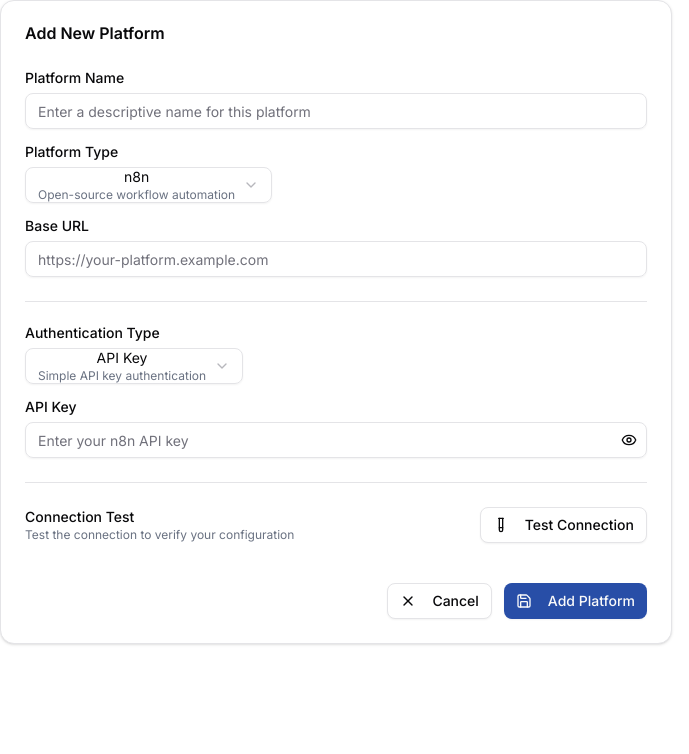
Test: PlatformForm › handles connection test failure
In the field labelled "Platform Name": [336, 111] box left=25, top=93, right=647, bottom=129, type "Test Platform"
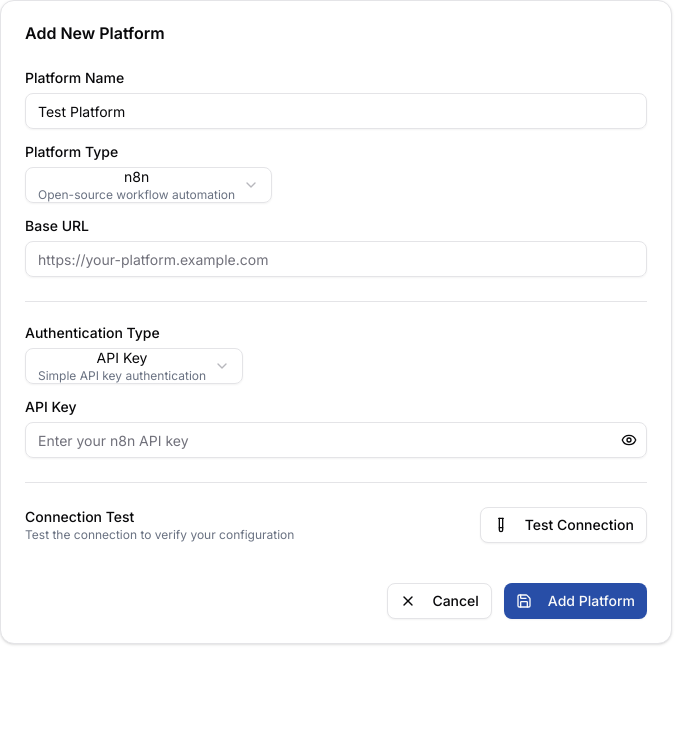
In the field labelled "Base URL": [336, 259] box left=25, top=241, right=647, bottom=277, type "https://test.example.com"
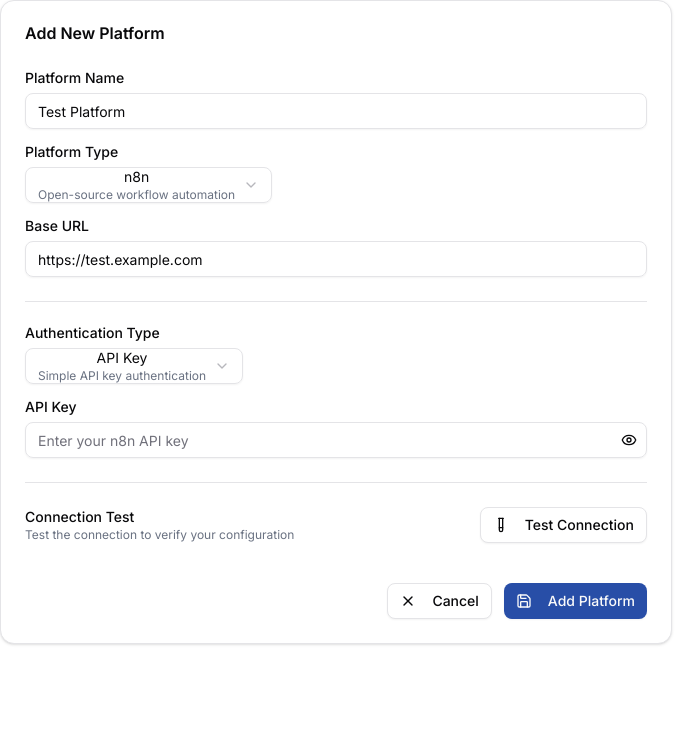
In the password field labelled "API Key": [336, 440] box left=25, top=422, right=647, bottom=458, type "invalid-key"
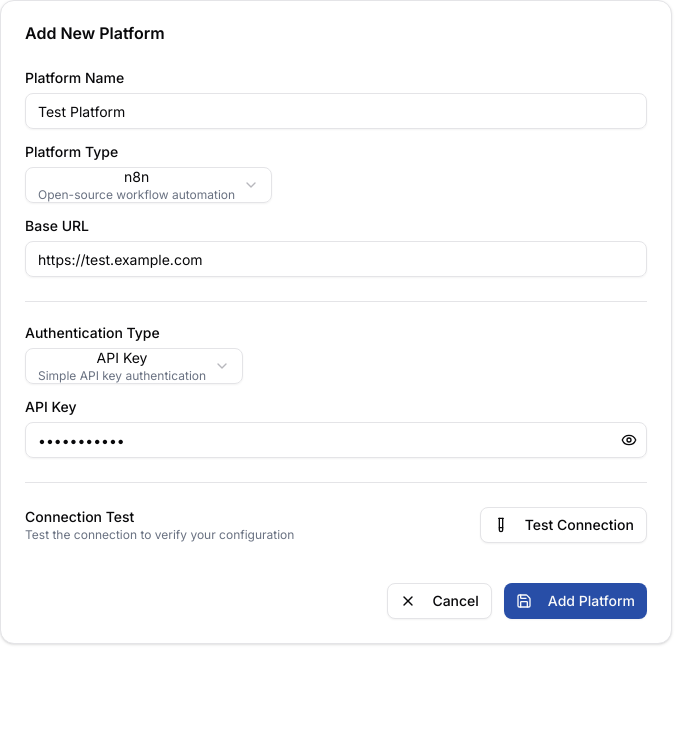
# Click test connection
Click the button "Test Connection": [563, 525] box left=480, top=507, right=647, bottom=543
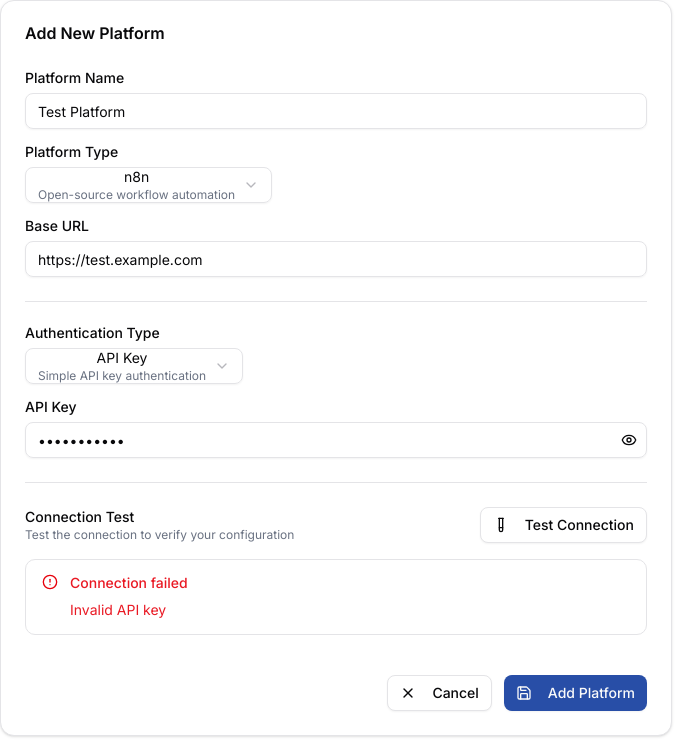
Now the text "Connection failed" is shown, box left=70, top=572, right=188, bottom=595
Now the text "Invalid API key" is shown, box left=70, top=601, right=166, bottom=618
